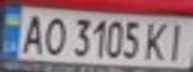0: (106, 17, 127, 60)
1: (90, 16, 109, 58)
3: (69, 15, 93, 57)
5: (121, 18, 145, 61)
A: (15, 11, 48, 54)
I: (163, 19, 193, 62)
K: (142, 19, 172, 62)
O: (39, 14, 69, 56)
